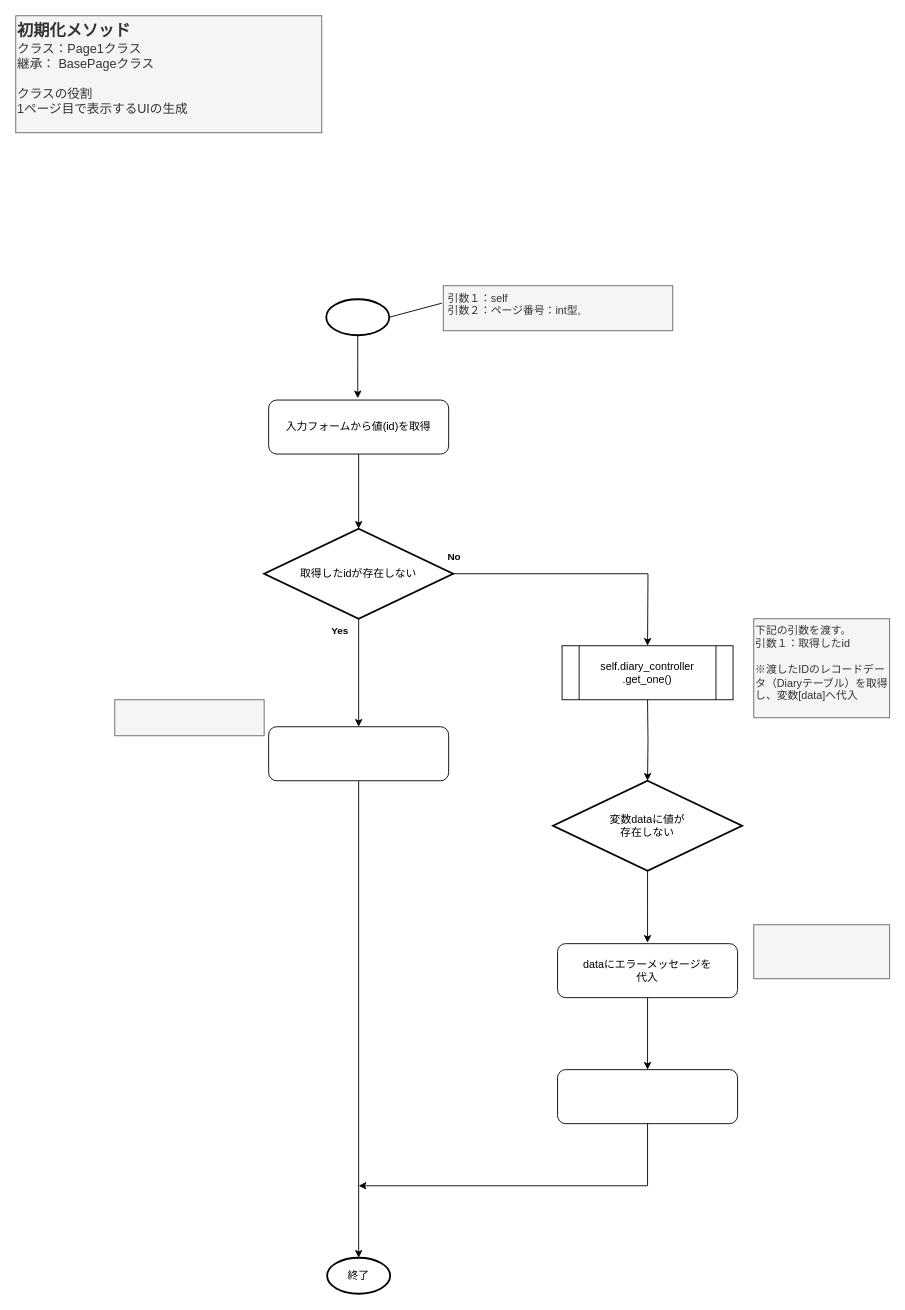
This 905x1310 diagram has some shape labels left out. The shapes that lost their labels are listed below. From the top down, each one's centre as x and y in pixels, then its label:
[357,317]: 開始
[189,717]: メッセージ内容 ※idを入力してください。
[358,753]: 入力フォームの下にエラーメッセージ用のラベルを表示する
[821,951]: メッセージ内容 指定のIDのデータは存在しません。
[647,1096]: メッセージボックス表示 変数dataを表示
